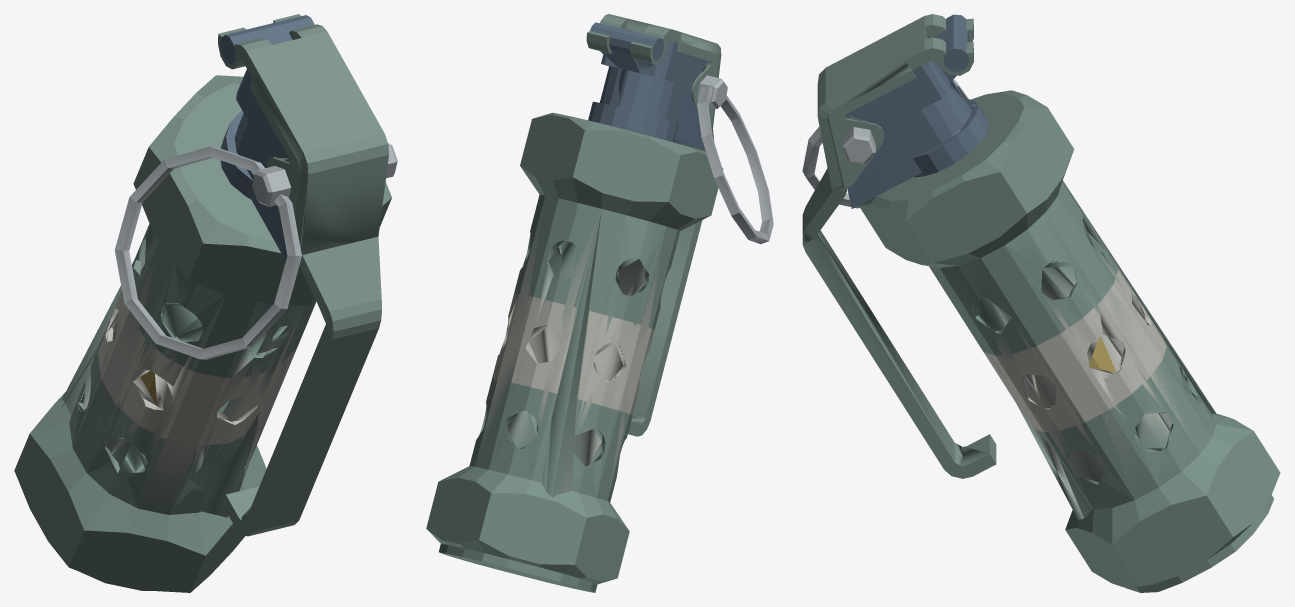
File: item_flashbang.glb
3 views of the same model, side by side, from view 1: azimuth 30°, elevation 25°; view 2: azimuth 150°, elevation 25°; view 3: azimuth 270°, elevation 25° (orthographic). The views are drawn at different scales.
Visible parts, largest first — view 1: Flashbang_Body, Flashbang_Handle, Flashbang_Pin; view 2: Flashbang_Body, Flashbang_Handle, Flashbang_Pin; view 3: Flashbang_Body, Flashbang_Handle, Flashbang_Pin.
Part boxes in pixels (x1,y1,x2,y2): Flashbang_Body: (14,15,391,592); Flashbang_Handle: (218,14,388,536); Flashbang_Pin: (115,143,397,359); Flashbang_Body: (426,22,723,592); Flashbang_Handle: (586,14,721,436); Flashbang_Pin: (697,75,773,244); Flashbang_Body: (845,14,1280,592); Flashbang_Handle: (802,14,996,478); Flashbang_Pin: (802,79,968,208).
Size of the model in its own units: 0.0834 by 0.2025 by 0.1599.
